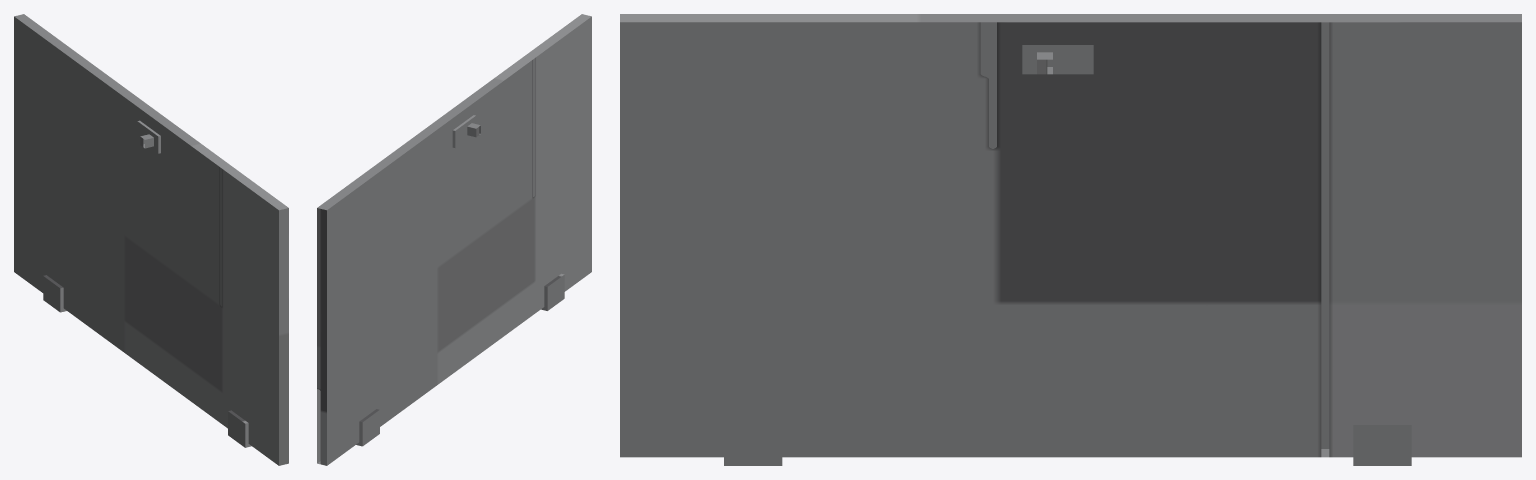
3 renders of one model, left to right at view 1: azimuth 30°, elevation 25°; view 2: azimuth 150°, elevation 25°; view 3: azimuth 270°, elevation 25°, orthographic. The views are drawn at different scales.
Size of the model in its own units: 0.1 by 0.75 by 1.39.
